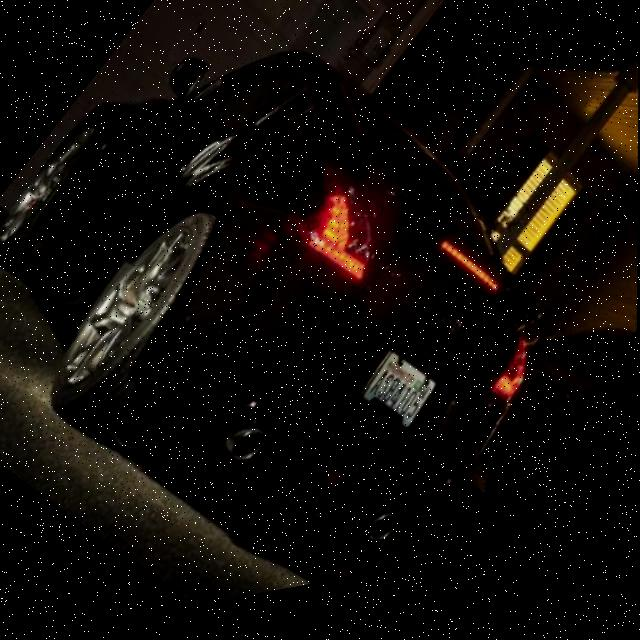license_plate: (354, 354, 443, 453)
